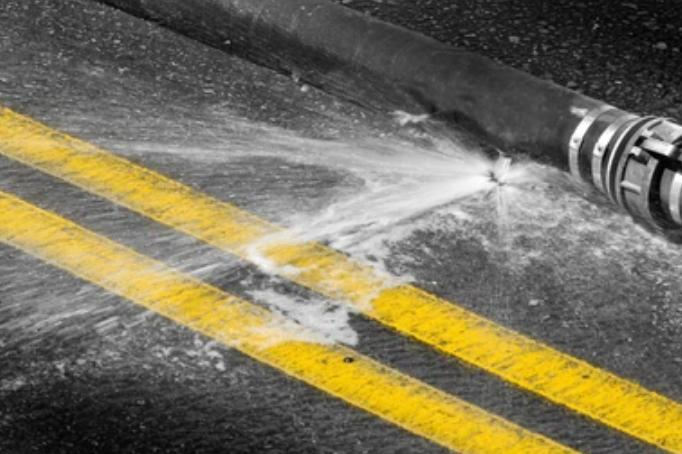pipe burst: (0, 118, 577, 361)
